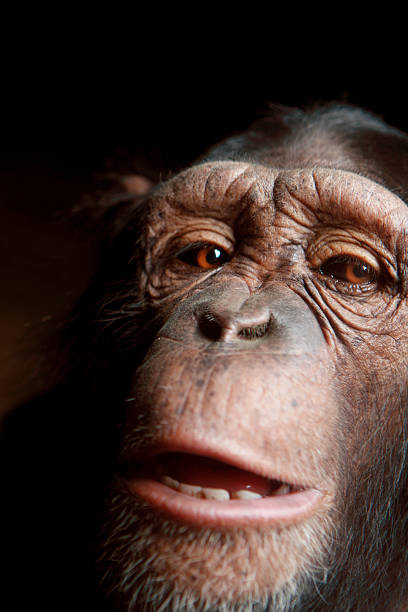chimpanzee: (34, 76, 408, 612)
